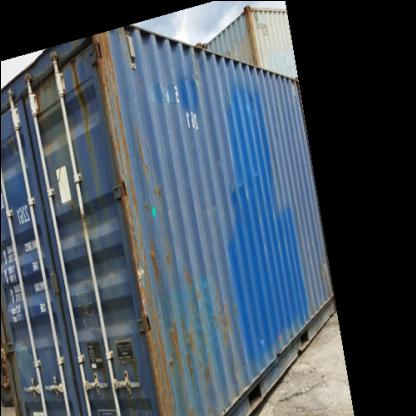Damage: (152, 276, 242, 404), (92, 164, 173, 306), (91, 29, 161, 172)
